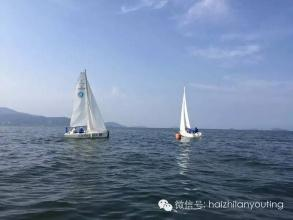fanchuan: (55, 67, 110, 142), (167, 85, 201, 142)
